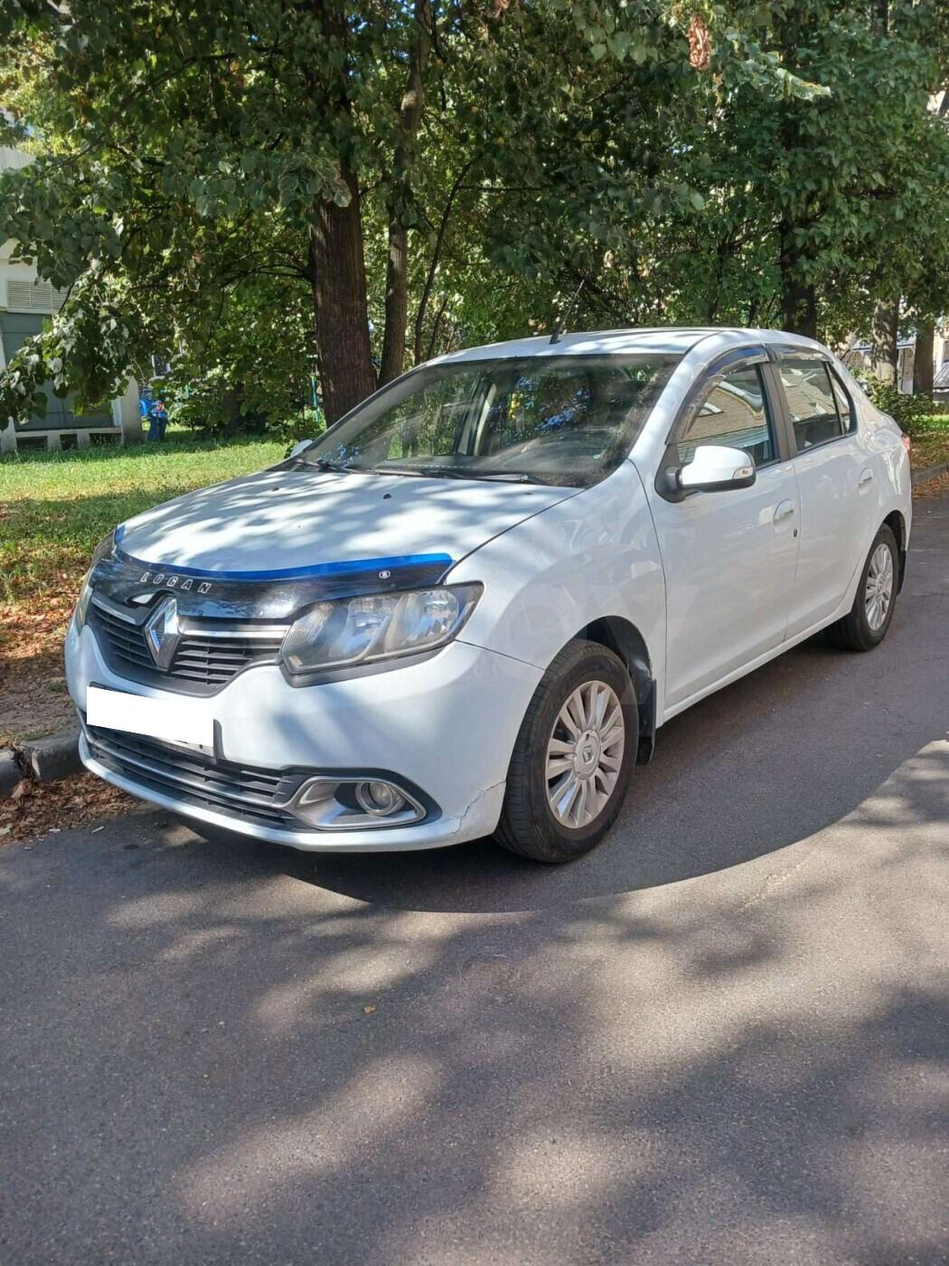Logan_2013-2018: (58, 315, 913, 872)
